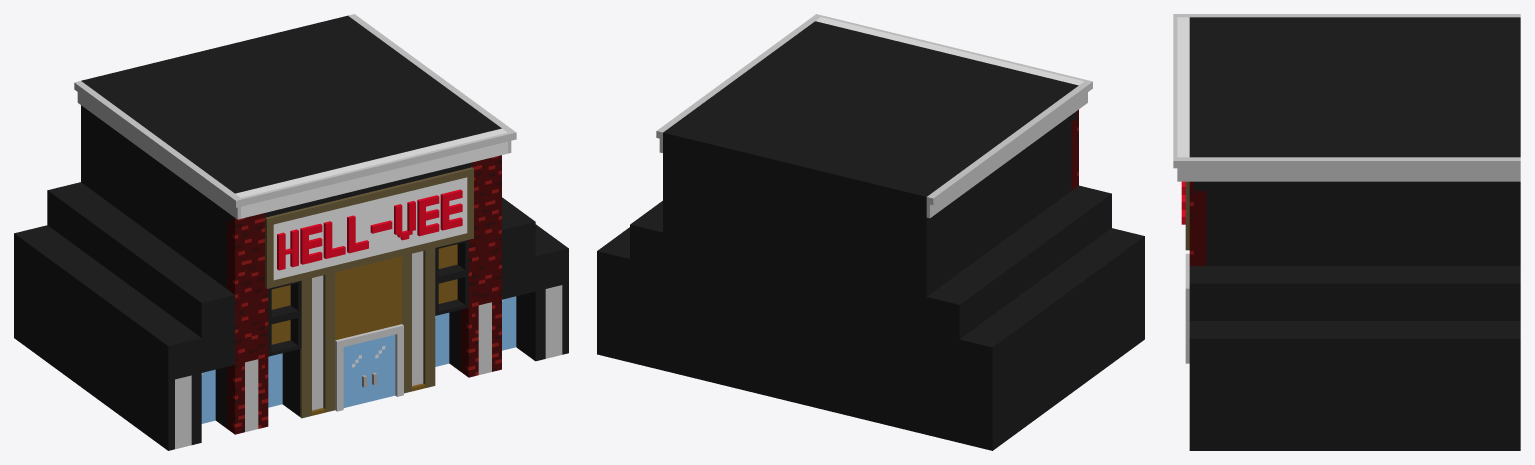
The model's file is Grocery_store_02.obj.
The picture shows the model from 3 angles, left to right: view 1: azimuth 30°, elevation 25°; view 2: azimuth 150°, elevation 25°; view 3: azimuth 270°, elevation 25°; orthographic projection. The views are drawn at different scales.
Parts seen in each view (by area): view 1: Grocery_store_01; view 2: Grocery_store_01; view 3: Grocery_store_01.
Boxes of the visible parts, x1,y1,x2,y2 form: Grocery_store_01: [14, 14, 568, 450]; Grocery_store_01: [597, 14, 1144, 450]; Grocery_store_01: [1173, 14, 1520, 450].
Size of the model in its own units: 120 by 69 by 84.
1 material, 1 textured.
